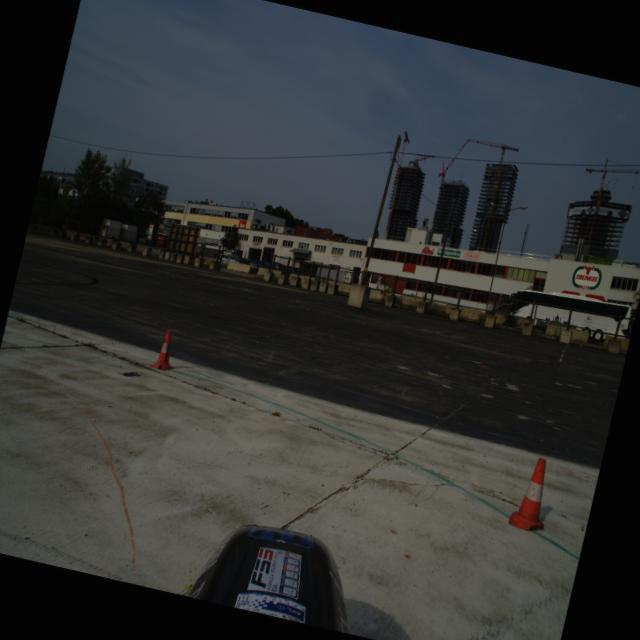orange_cone: (508, 454, 558, 534), (150, 327, 182, 372)
